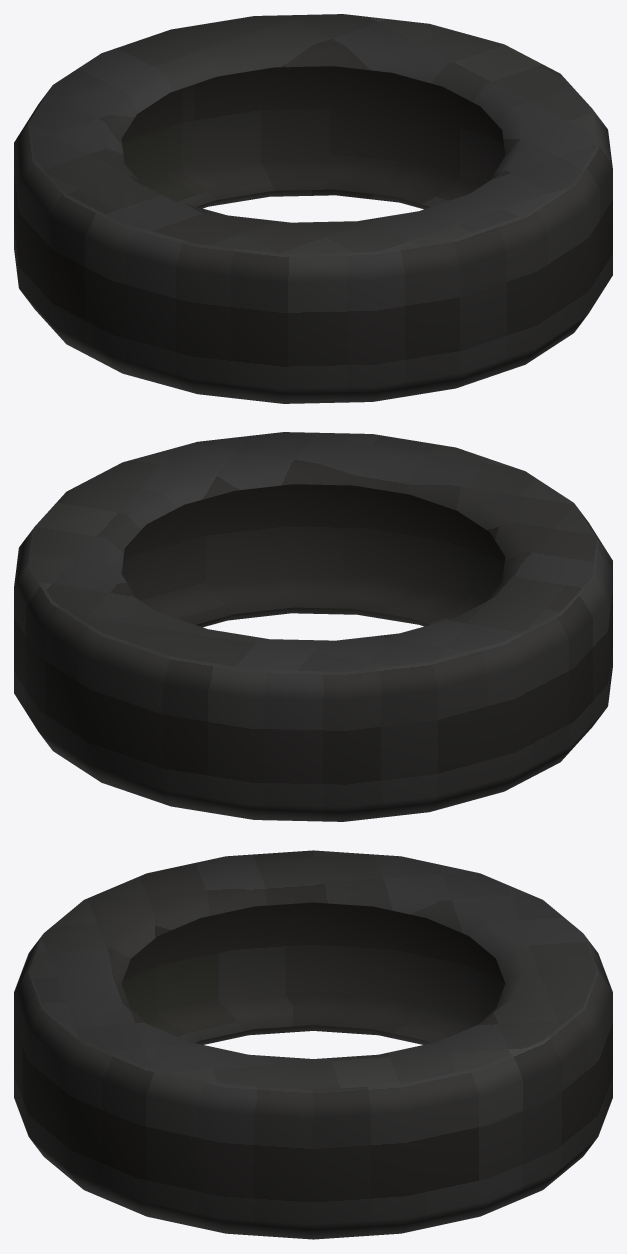
File: objects_un_base_tire01.gltf
3 views of the same model, one above another, from view 1: azimuth 30°, elevation 25°; view 2: azimuth 150°, elevation 25°; view 3: azimuth 270°, elevation 25° (orthographic).
Parts seen in each view (by area): view 1: objects_un_base_tire01_mesh_shape:objects_un_base_tire01_mai; view 2: objects_un_base_tire01_mesh_shape:objects_un_base_tire01_mai; view 3: objects_un_base_tire01_mesh_shape:objects_un_base_tire01_mai.
Part boxes in pixels (box(x1,y1,x2,y2)): objects_un_base_tire01_mesh_shape:objects_un_base_tire01_mai: box(14, 14, 612, 403); objects_un_base_tire01_mesh_shape:objects_un_base_tire01_mai: box(14, 432, 612, 821); objects_un_base_tire01_mesh_shape:objects_un_base_tire01_mai: box(14, 850, 612, 1239).
Bounding box in the file's own units: 0.6509 × 0.179 × 0.6509.
Materials: 1 (1 with a texture image).
